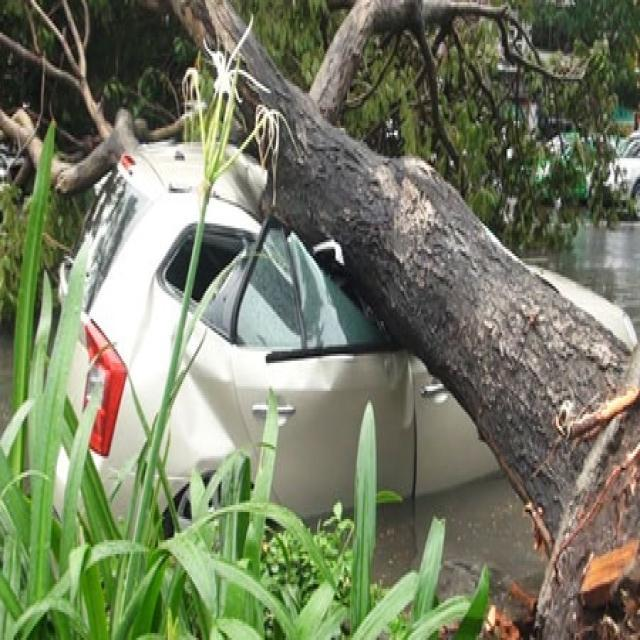fallen_object: (203, 0, 640, 634)
